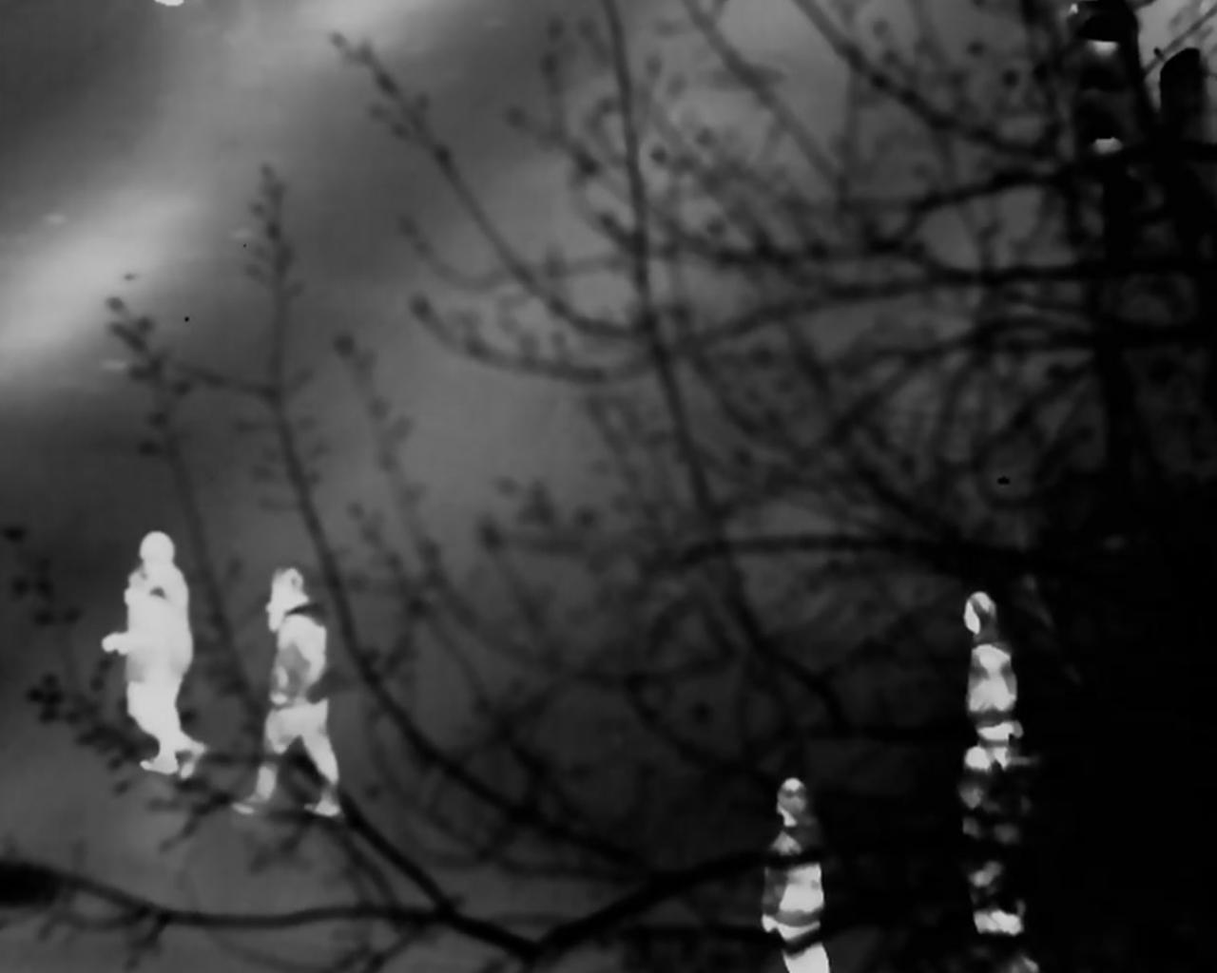person: (238, 562, 341, 820), (102, 528, 206, 779), (964, 590, 1024, 841), (765, 775, 829, 973)
